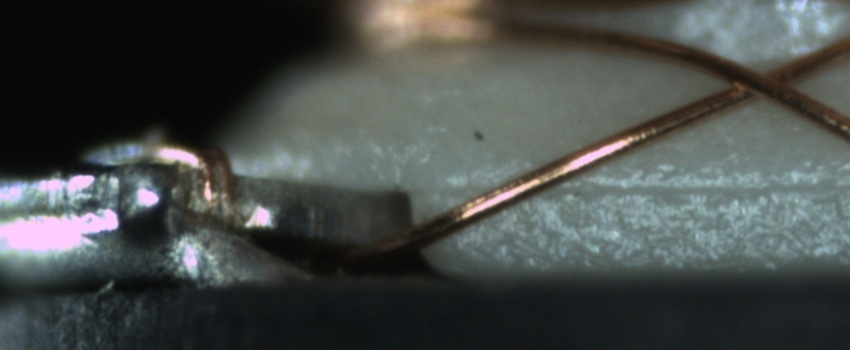CL: (711, 55, 810, 108)
DL: (435, 155, 849, 218)
TE: (137, 135, 238, 240)
